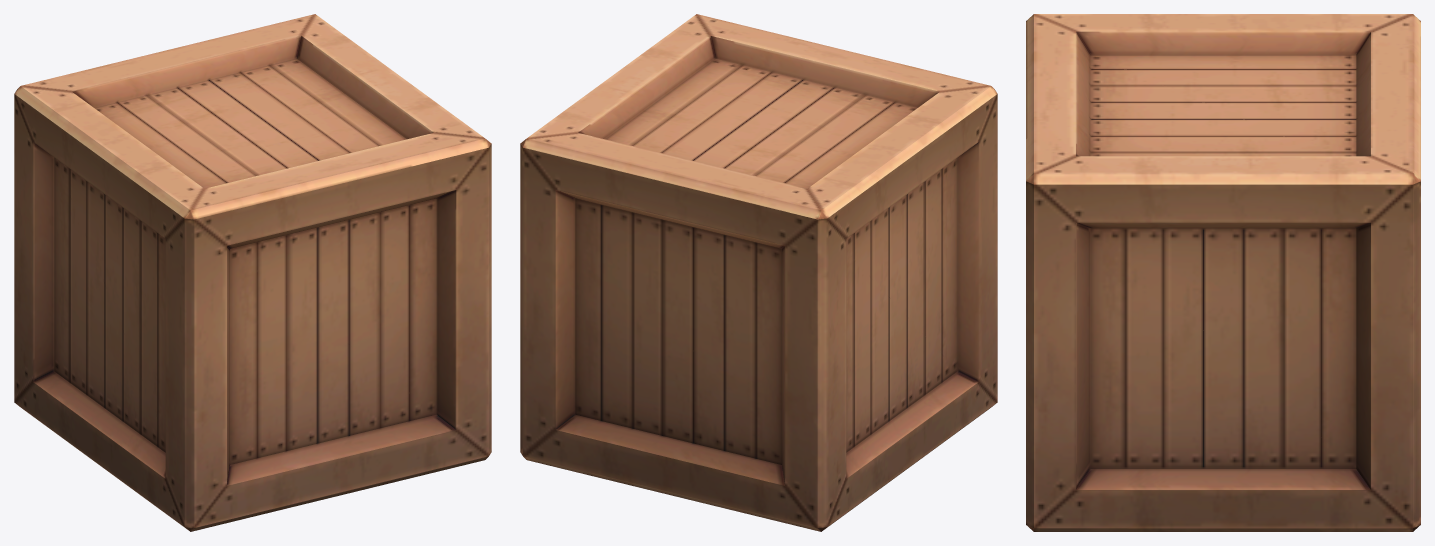
Rendered from wooden_crate_2-Default.fbx.
3 views of the same model, side by side, from view 1: azimuth 30°, elevation 25°; view 2: azimuth 150°, elevation 25°; view 3: azimuth 270°, elevation 25° (orthographic). The views are drawn at different scales.
Parts seen in each view (by area): view 1: Cube_015; view 2: Cube_015; view 3: Cube_015.
Part boxes in pixels (x1=…): Cube_015: x1=14, y1=14, x2=491, y2=531; Cube_015: x1=520, y1=14, x2=997, y2=531; Cube_015: x1=1026, y1=14, x2=1420, y2=531.
Size of the model in its own units: 200 by 200 by 200.
